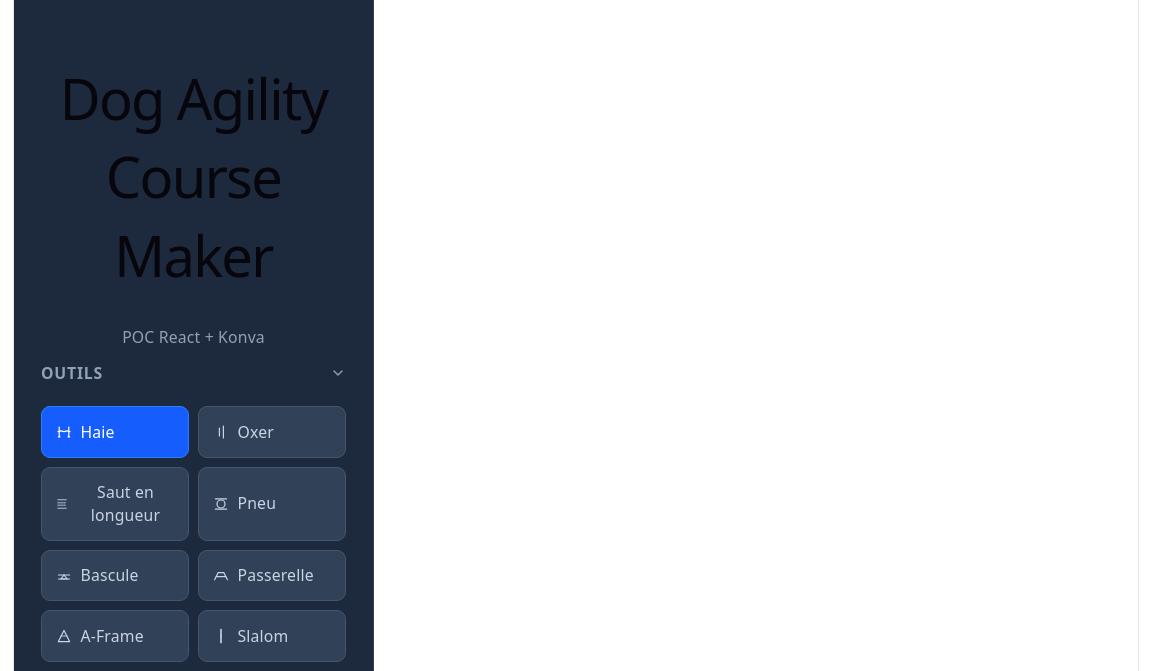
Sidebar accessibilité › re-cliquer l'outil actif le désélectionne
What coordinates should you click on to do the following:
click the button "Bascule"
I would click on:
 (115, 575)
Its box is x1=41 y1=550 x2=189 y2=601.
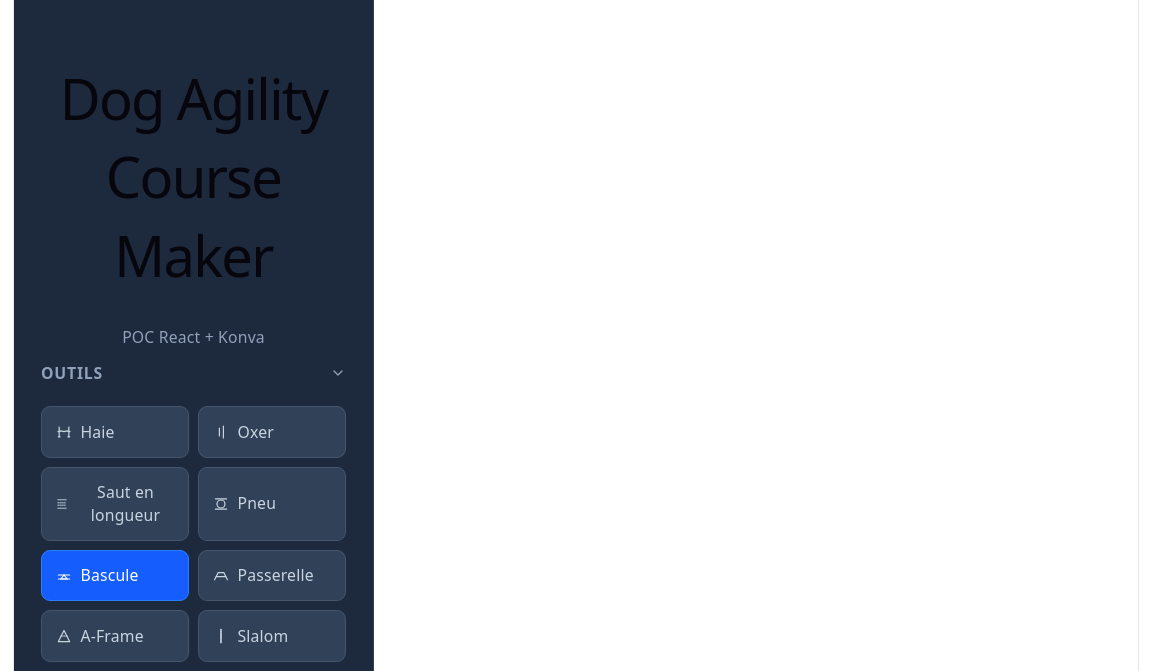
What coordinates should you click on to do the following:
click the button "Bascule"
I would click on:
 (115, 575)
Its box is x1=41 y1=550 x2=189 y2=601.
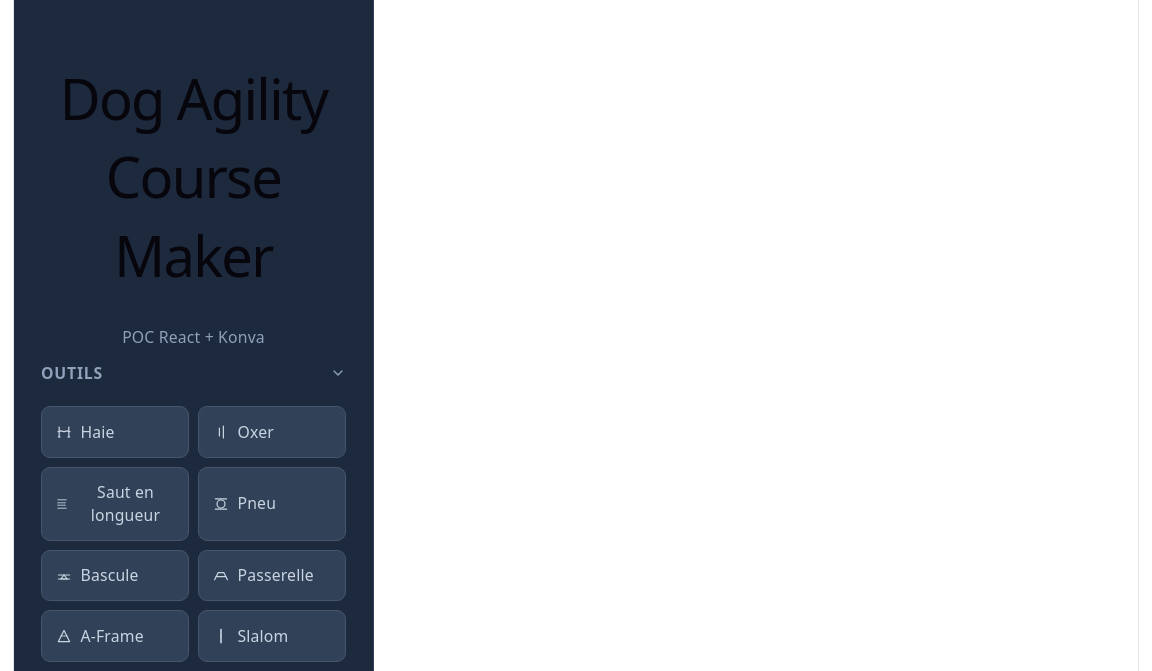
Now the button "Bascule" is not pressed, box x1=41 y1=550 x2=189 y2=601
Now the button "Haie" is not pressed, box x1=41 y1=406 x2=189 y2=458
